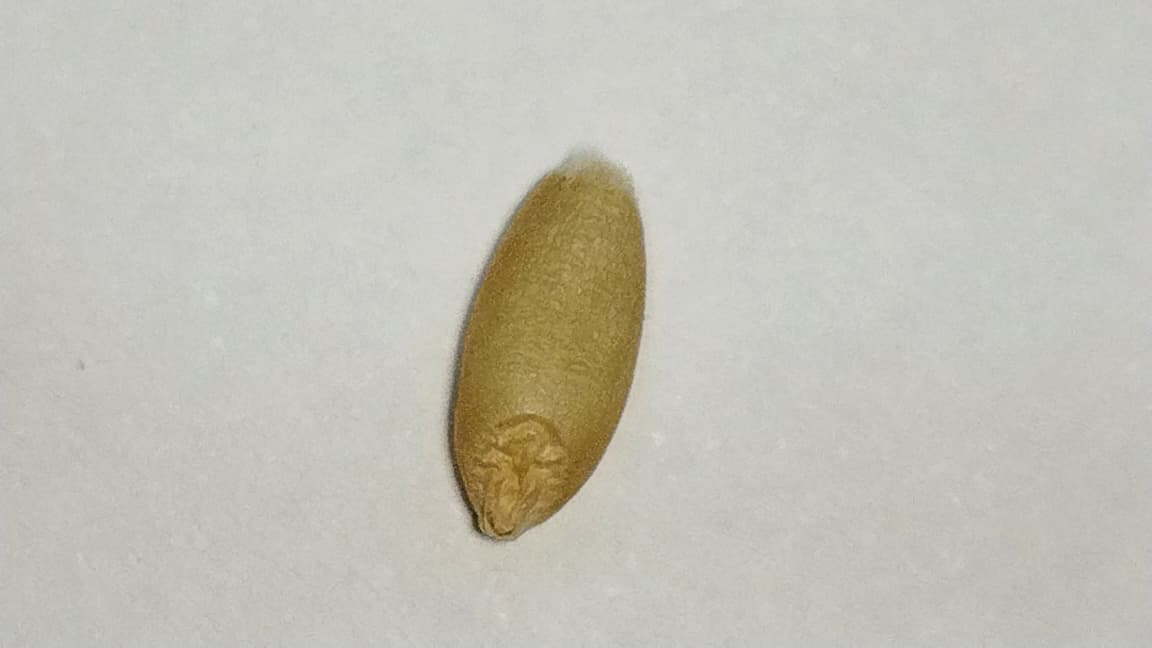healthy: (445, 151, 646, 542)
